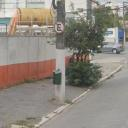NoEstacionar: (52, 21, 66, 35)
